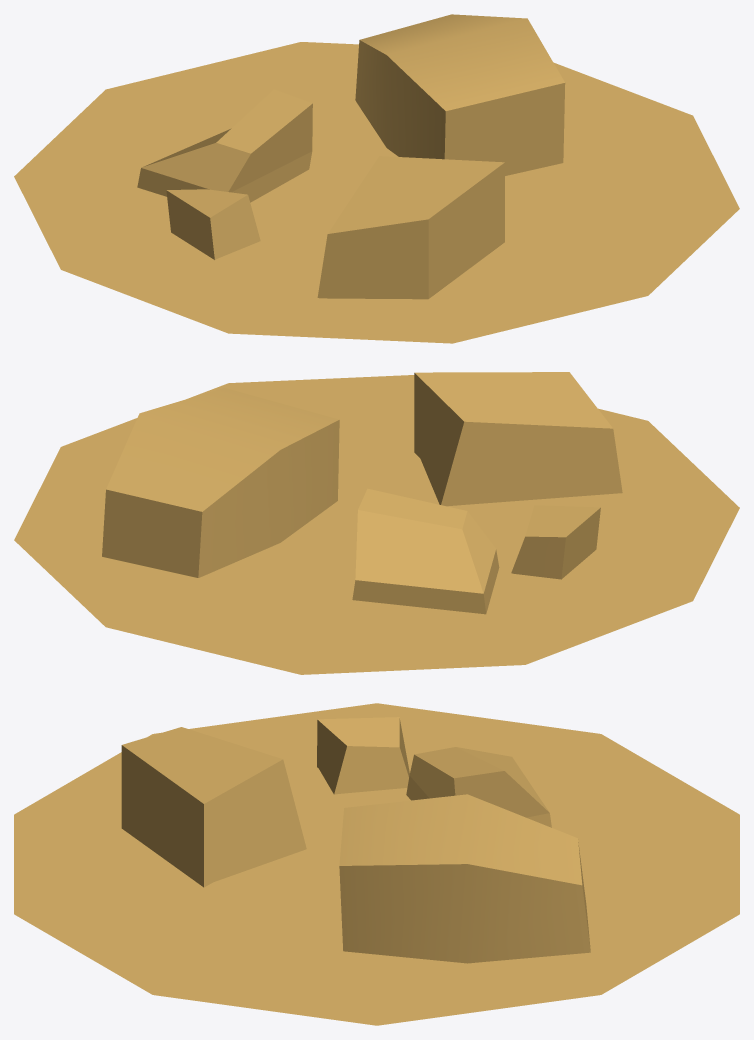
The model's file is ladle_food.fbx.
3 renders of one model, top to bottom at view 1: azimuth 30°, elevation 25°; view 2: azimuth 150°, elevation 25°; view 3: azimuth 270°, elevation 25°, orthographic. The views are drawn at different scales.
Parts seen in each view (by area): view 1: Cylinder017; view 2: Cylinder017; view 3: Cylinder017.
Boxes of the visible parts, x1,y1,x2,y2 form: Cylinder017: (14,14,739,343); Cylinder017: (14,372,739,674); Cylinder017: (14,703,739,1025).
Size of the model in its own units: 30.34 by 4.85 by 28.86.
